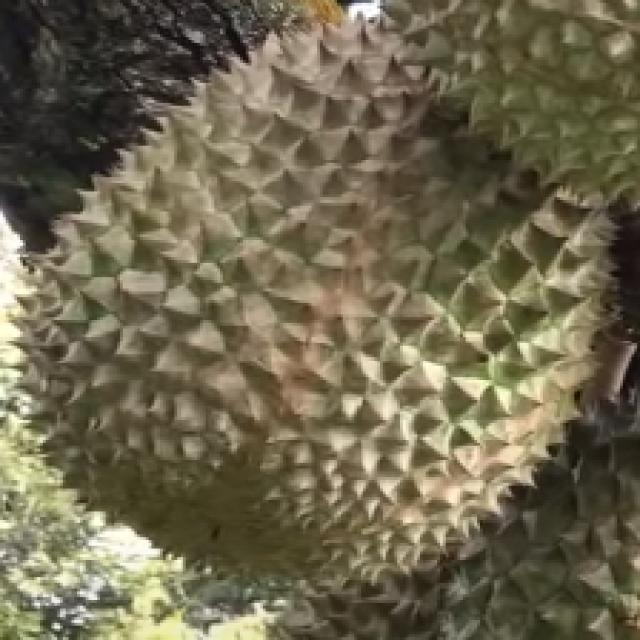d197: (17, 34, 618, 583), (379, 3, 640, 218)
